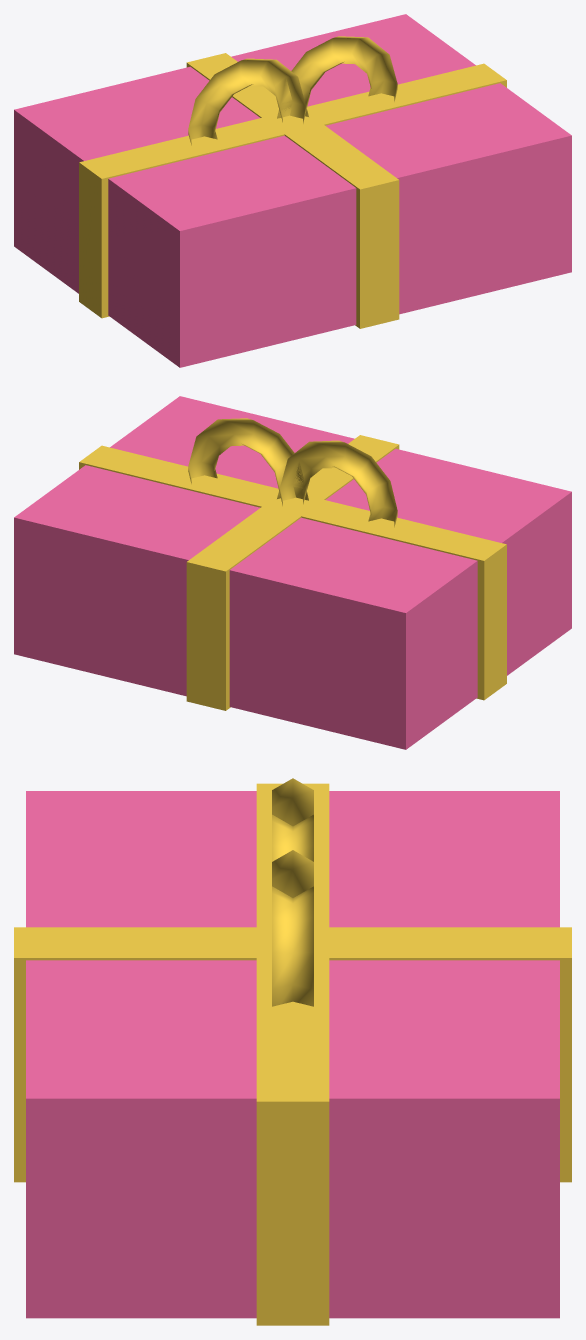
File: chocolate_box.glb
3 renders of one model, top to bottom at view 1: azimuth 30°, elevation 25°; view 2: azimuth 150°, elevation 25°; view 3: azimuth 270°, elevation 25°, orthographic. The views are drawn at different scales.
Parts seen in each view (by area): view 1: chocolate_box; view 2: chocolate_box; view 3: chocolate_box.
Part boxes in pixels (box(x1,y1,x2,y2)): chocolate_box: box(14, 14, 571, 367); chocolate_box: box(14, 396, 571, 749); chocolate_box: box(14, 778, 571, 1325).
Size of the model in its own units: 0.31 by 0.156 by 0.23.
